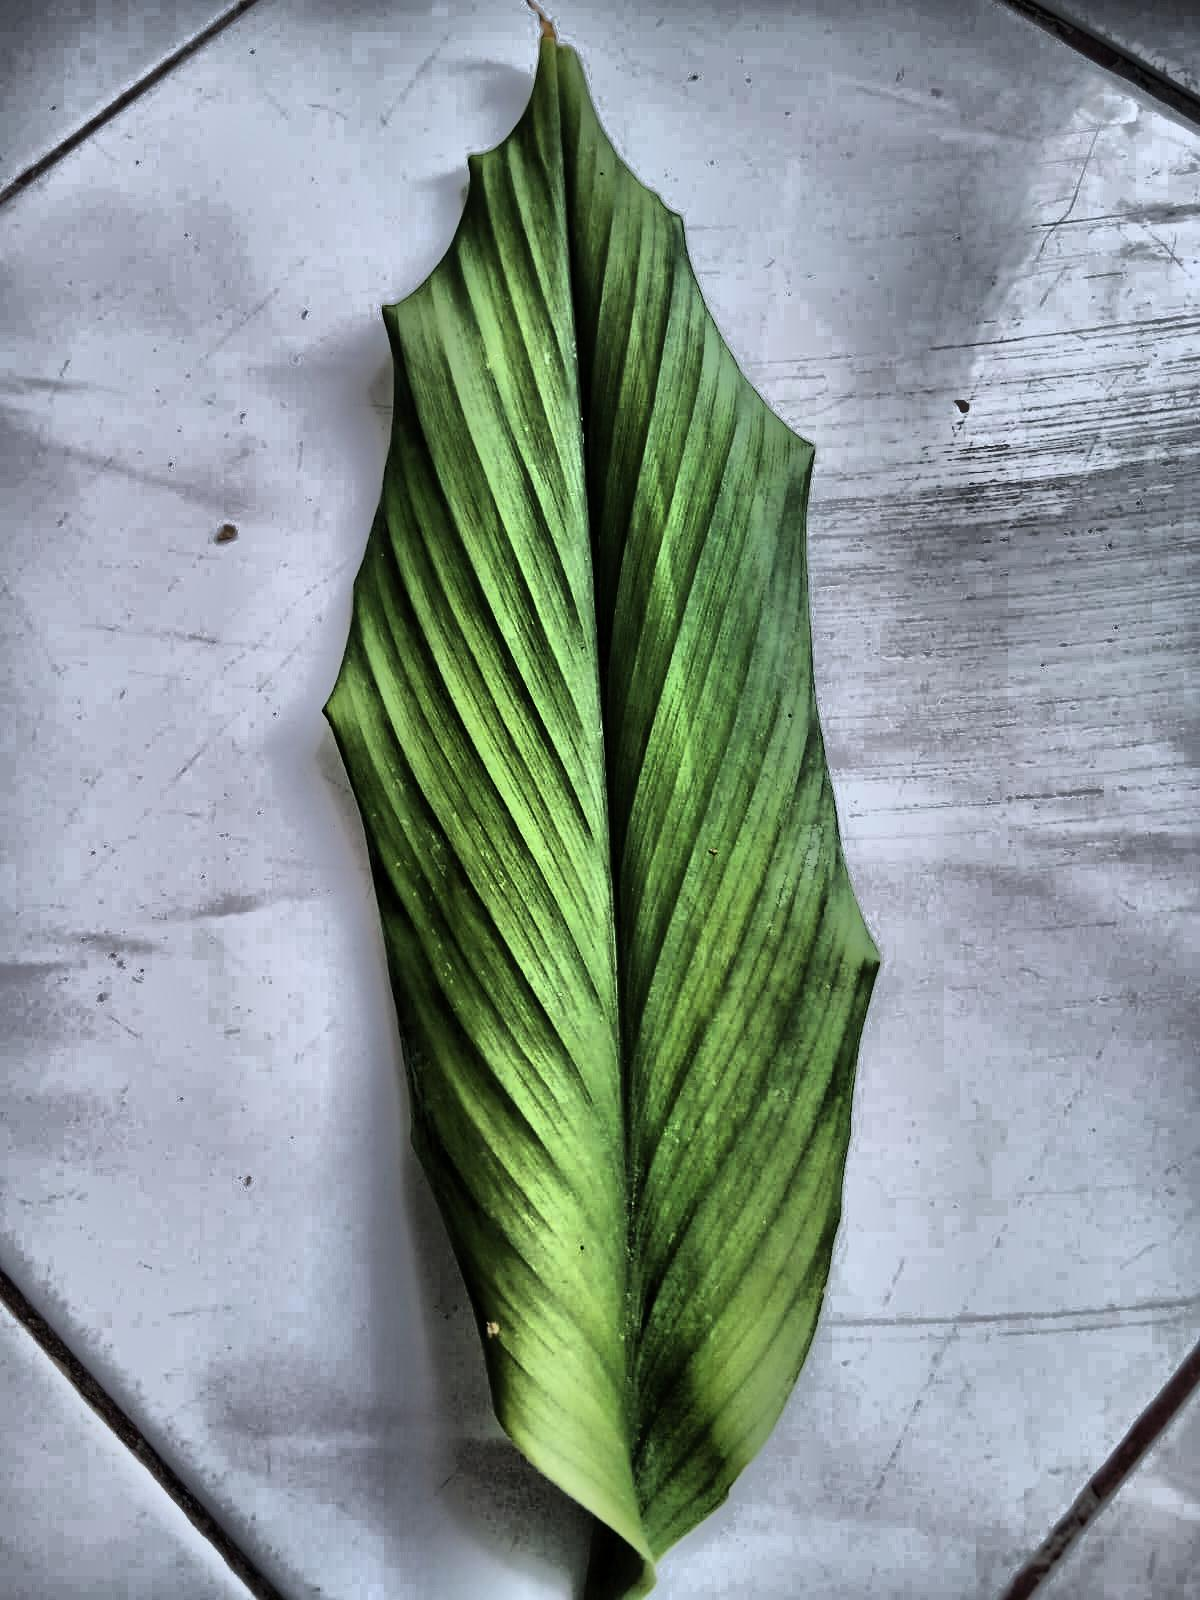daun kunyit: (326, 37, 877, 1599)
